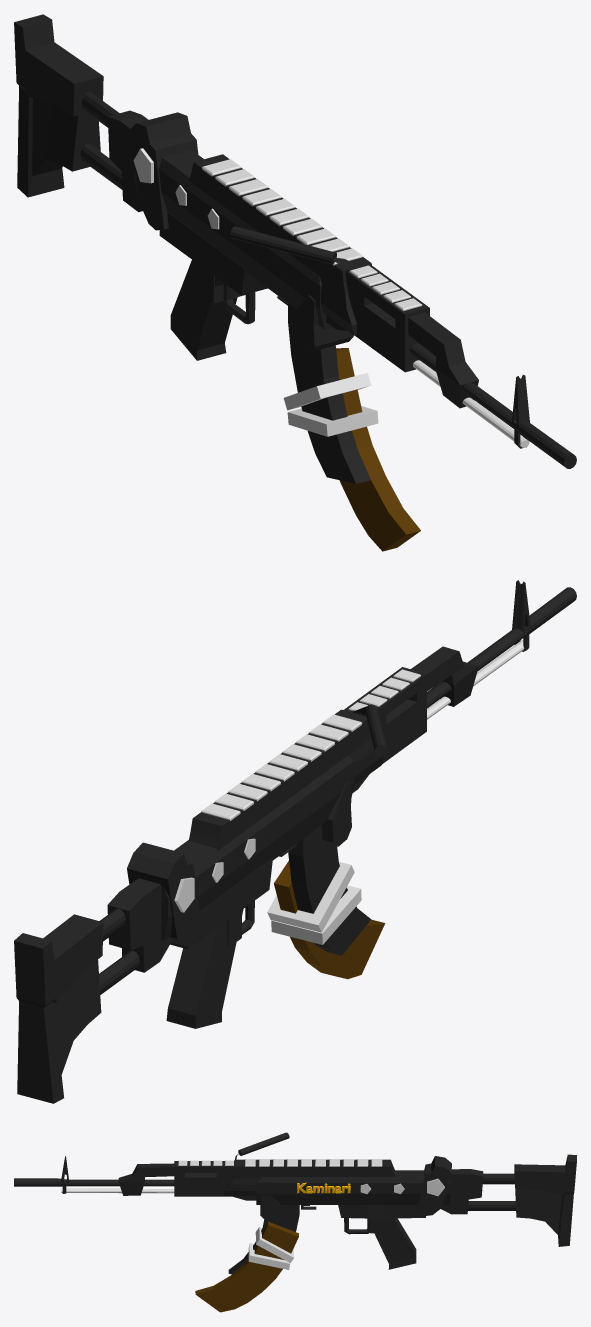
File: zeuscod.fbx
3 renders of one model, top to bottom at view 1: azimuth 30°, elevation 25°; view 2: azimuth 150°, elevation 25°; view 3: azimuth 270°, elevation 25°, orthographic. The views are drawn at different scales.
Visible parts, largest first — view 1: Plane.022, Plane.021, Plane.027, Plane.016, Plane.018, Plane.017, Plane.020, Circle.001, Plane.023; view 2: Plane.022, Plane.021, Plane.016, Plane.018, Plane.027, Plane.017, Circle.001, Plane.020; view 3: Plane.022, Plane.027, Plane.021, Plane.018, Plane.016, Plane.020, Circle, Text, Plane.017.
Part boxes in pixels (x1=…): Plane.022: x1=14, y1=14, x2=478, y2=483; Plane.021: x1=80, y1=92, x2=576, y2=468; Plane.027: x1=336, y1=348, x2=420, y2=551; Plane.016: x1=202, y1=159, x2=363, y2=265; Plane.018: x1=283, y1=373, x2=378, y2=436; Plane.017: x1=349, y1=265, x2=422, y2=311; Plane.020: x1=413, y1=360, x2=529, y2=447; Circle.001: x1=133, y1=148, x2=219, y2=229; Plane.023: x1=223, y1=283, x2=255, y2=324; Plane.022: x1=14, y1=646, x2=478, y2=1103; Plane.021: x1=99, y1=580, x2=576, y2=994; Plane.016: x1=201, y1=714, x2=362, y2=820; Plane.018: x1=267, y1=862, x2=361, y2=944; Plane.027: x1=274, y1=861, x2=385, y2=979; Plane.017: x1=348, y1=669, x2=420, y2=710; Circle.001: x1=174, y1=838, x2=255, y2=912; Plane.020: x1=427, y1=640, x2=524, y2=719; Plane.022: x1=118, y1=1153, x2=576, y2=1274; Plane.027: x1=195, y1=1221, x2=298, y2=1312; Plane.021: x1=14, y1=1132, x2=515, y2=1210; Plane.018: x1=248, y1=1227, x2=294, y2=1269; Plane.016: x1=245, y1=1159, x2=382, y2=1166; Plane.020: x1=61, y1=1188, x2=174, y2=1193; Circle: x1=360, y1=1178, x2=444, y2=1196; Text: x1=297, y1=1182, x2=350, y2=1193; Plane.017: x1=178, y1=1160, x2=233, y2=1165.
Bounding box in the file's own units: 31.29 × 79.11 × 261.
